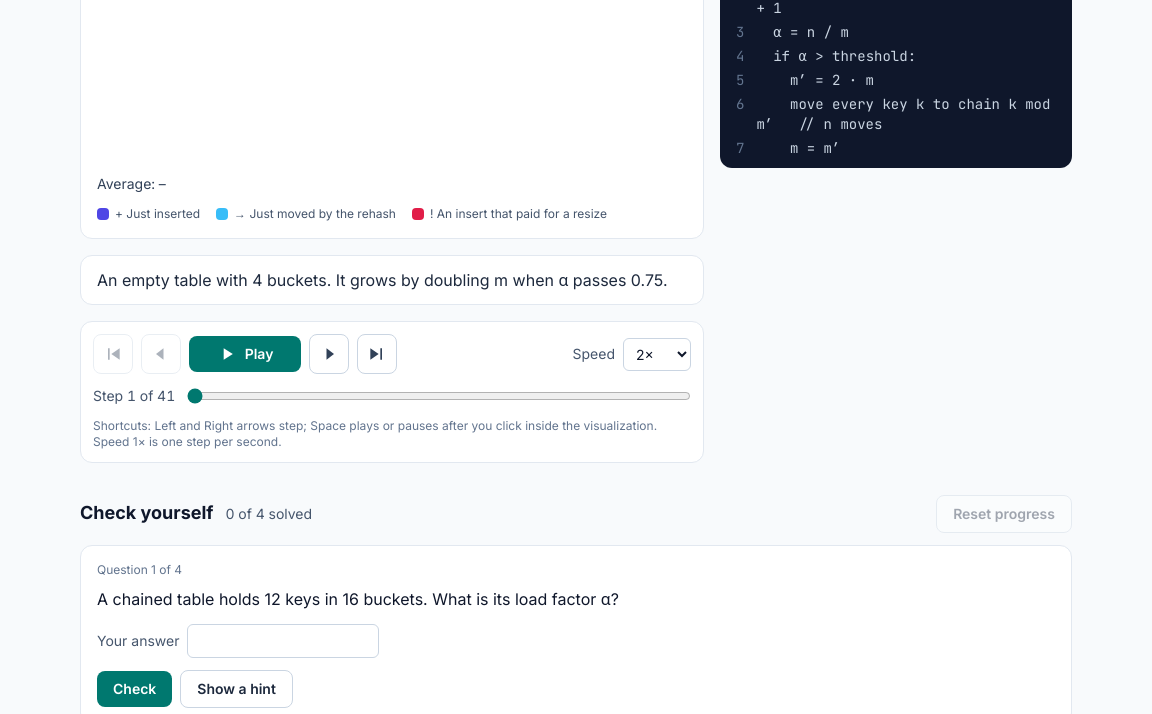
Test case: load factor and rehashing lesson › steps back with the arrow keys
This screenshot has width=1152, height=714.
(page scrolled)
Click the button named "Last step" at (377, 354), box [357, 334, 397, 374]
(page scrolled)
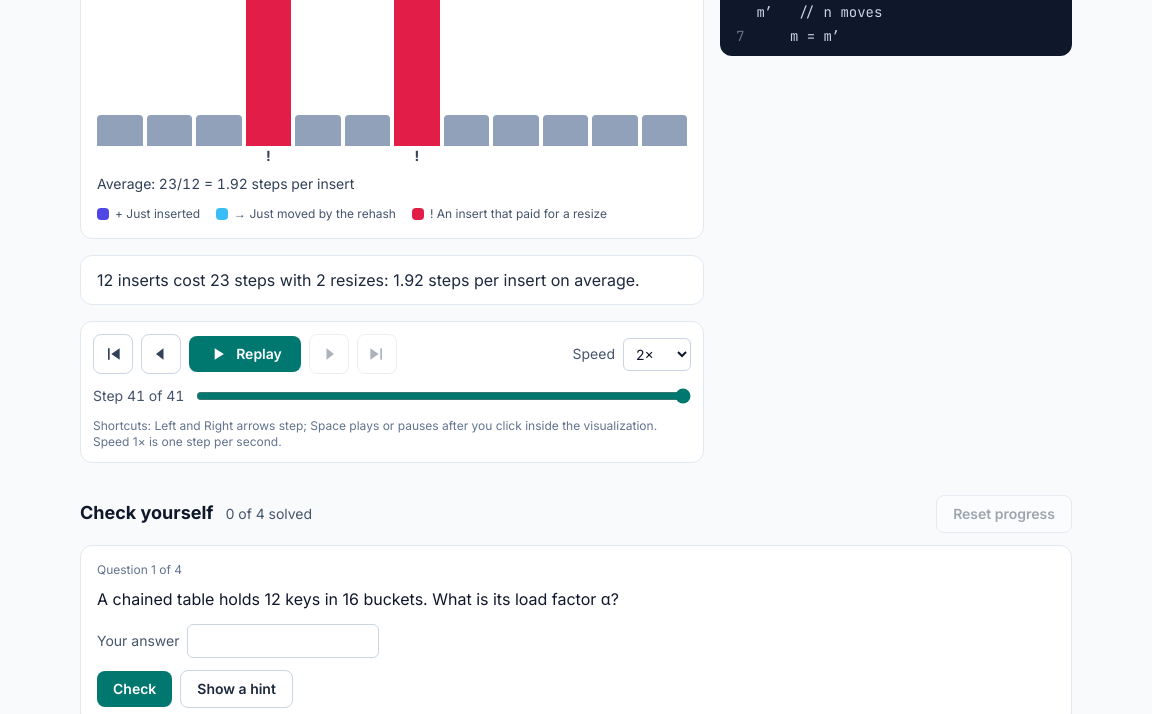
Press ArrowLeft
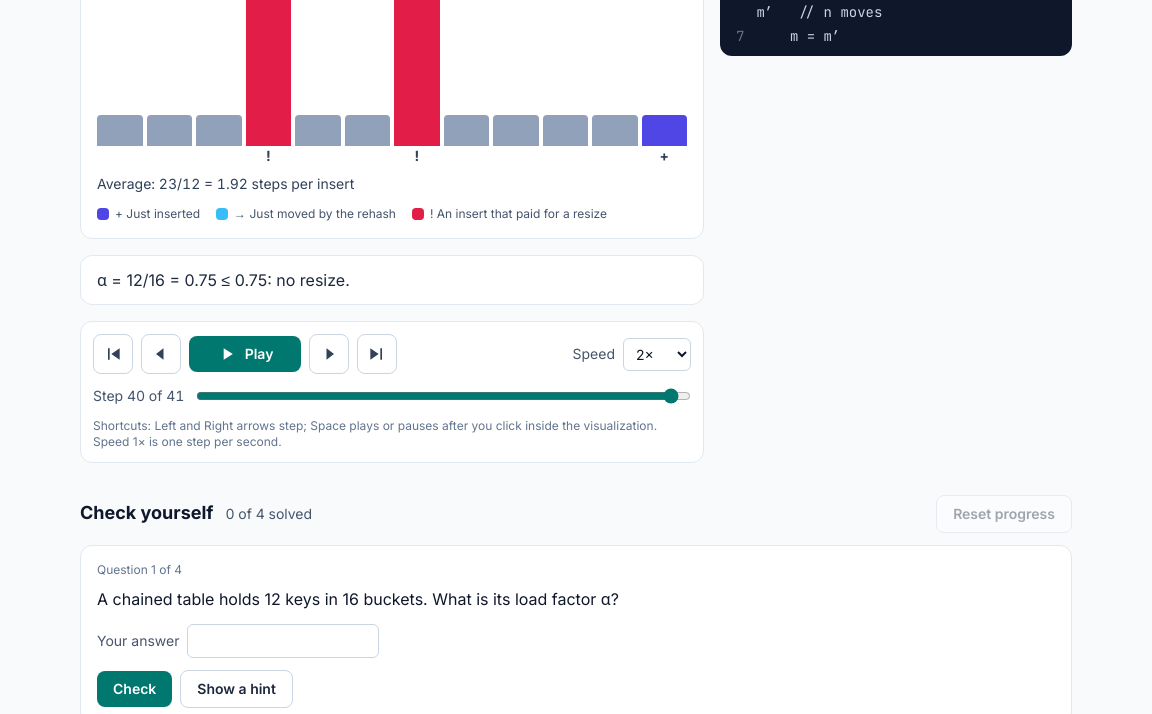
Check: the text "12 inserts cost 23 steps with 2 resizes: 1.92 steps per insert on average." is gone
